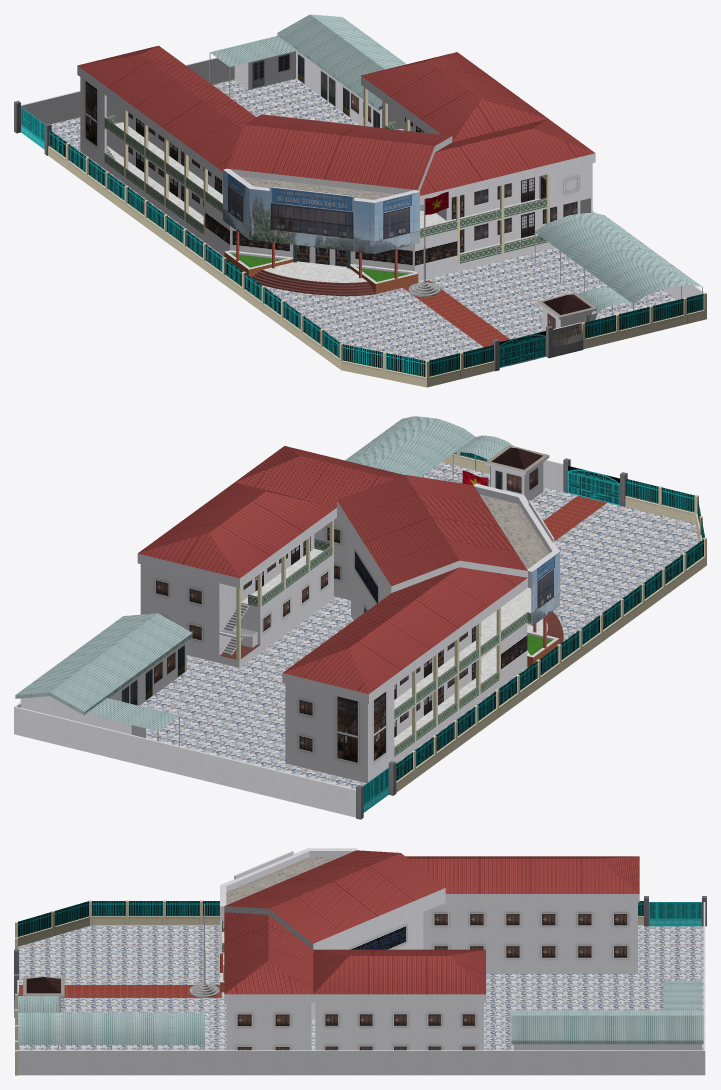
File: So Giao Thong Van Tai Tinh Binh Phuoc.glb
The picture shows the model from 3 angles, top to bottom: view 1: azimuth 30°, elevation 25°; view 2: azimuth 150°, elevation 25°; view 3: azimuth 270°, elevation 25°; orthographic projection. The views are drawn at different scales.
Parts seen in each view (by area): view 1: BPH010_SoGiaoThongVanTaiTinhBinhPhuoc, BPH010_SoGiaoThongVanTaiTinhBinhPhuoc_hangrao; view 2: BPH010_SoGiaoThongVanTaiTinhBinhPhuoc, BPH010_SoGiaoThongVanTaiTinhBinhPhuoc_hangrao; view 3: BPH010_SoGiaoThongVanTaiTinhBinhPhuoc_hangrao, BPH010_SoGiaoThongVanTaiTinhBinhPhuoc.
Part boxes in pixels (<box>): BPH010_SoGiaoThongVanTaiTinhBinhPhuoc: <box>77,45,595,296</box>; BPH010_SoGiaoThongVanTaiTinhBinhPhuoc_hangrao: <box>14,14,706,387</box>; BPH010_SoGiaoThongVanTaiTinhBinhPhuoc: <box>137,446,563,783</box>; BPH010_SoGiaoThongVanTaiTinhBinhPhuoc_hangrao: <box>14,416,706,819</box>; BPH010_SoGiaoThongVanTaiTinhBinhPhuoc_hangrao: <box>14,896,706,1075</box>; BPH010_SoGiaoThongVanTaiTinhBinhPhuoc: <box>220,848,639,1050</box>.
Size of the model in its own units: 36.77 by 11.66 by 71.16.
Materials: 2 (2 with a texture image).
